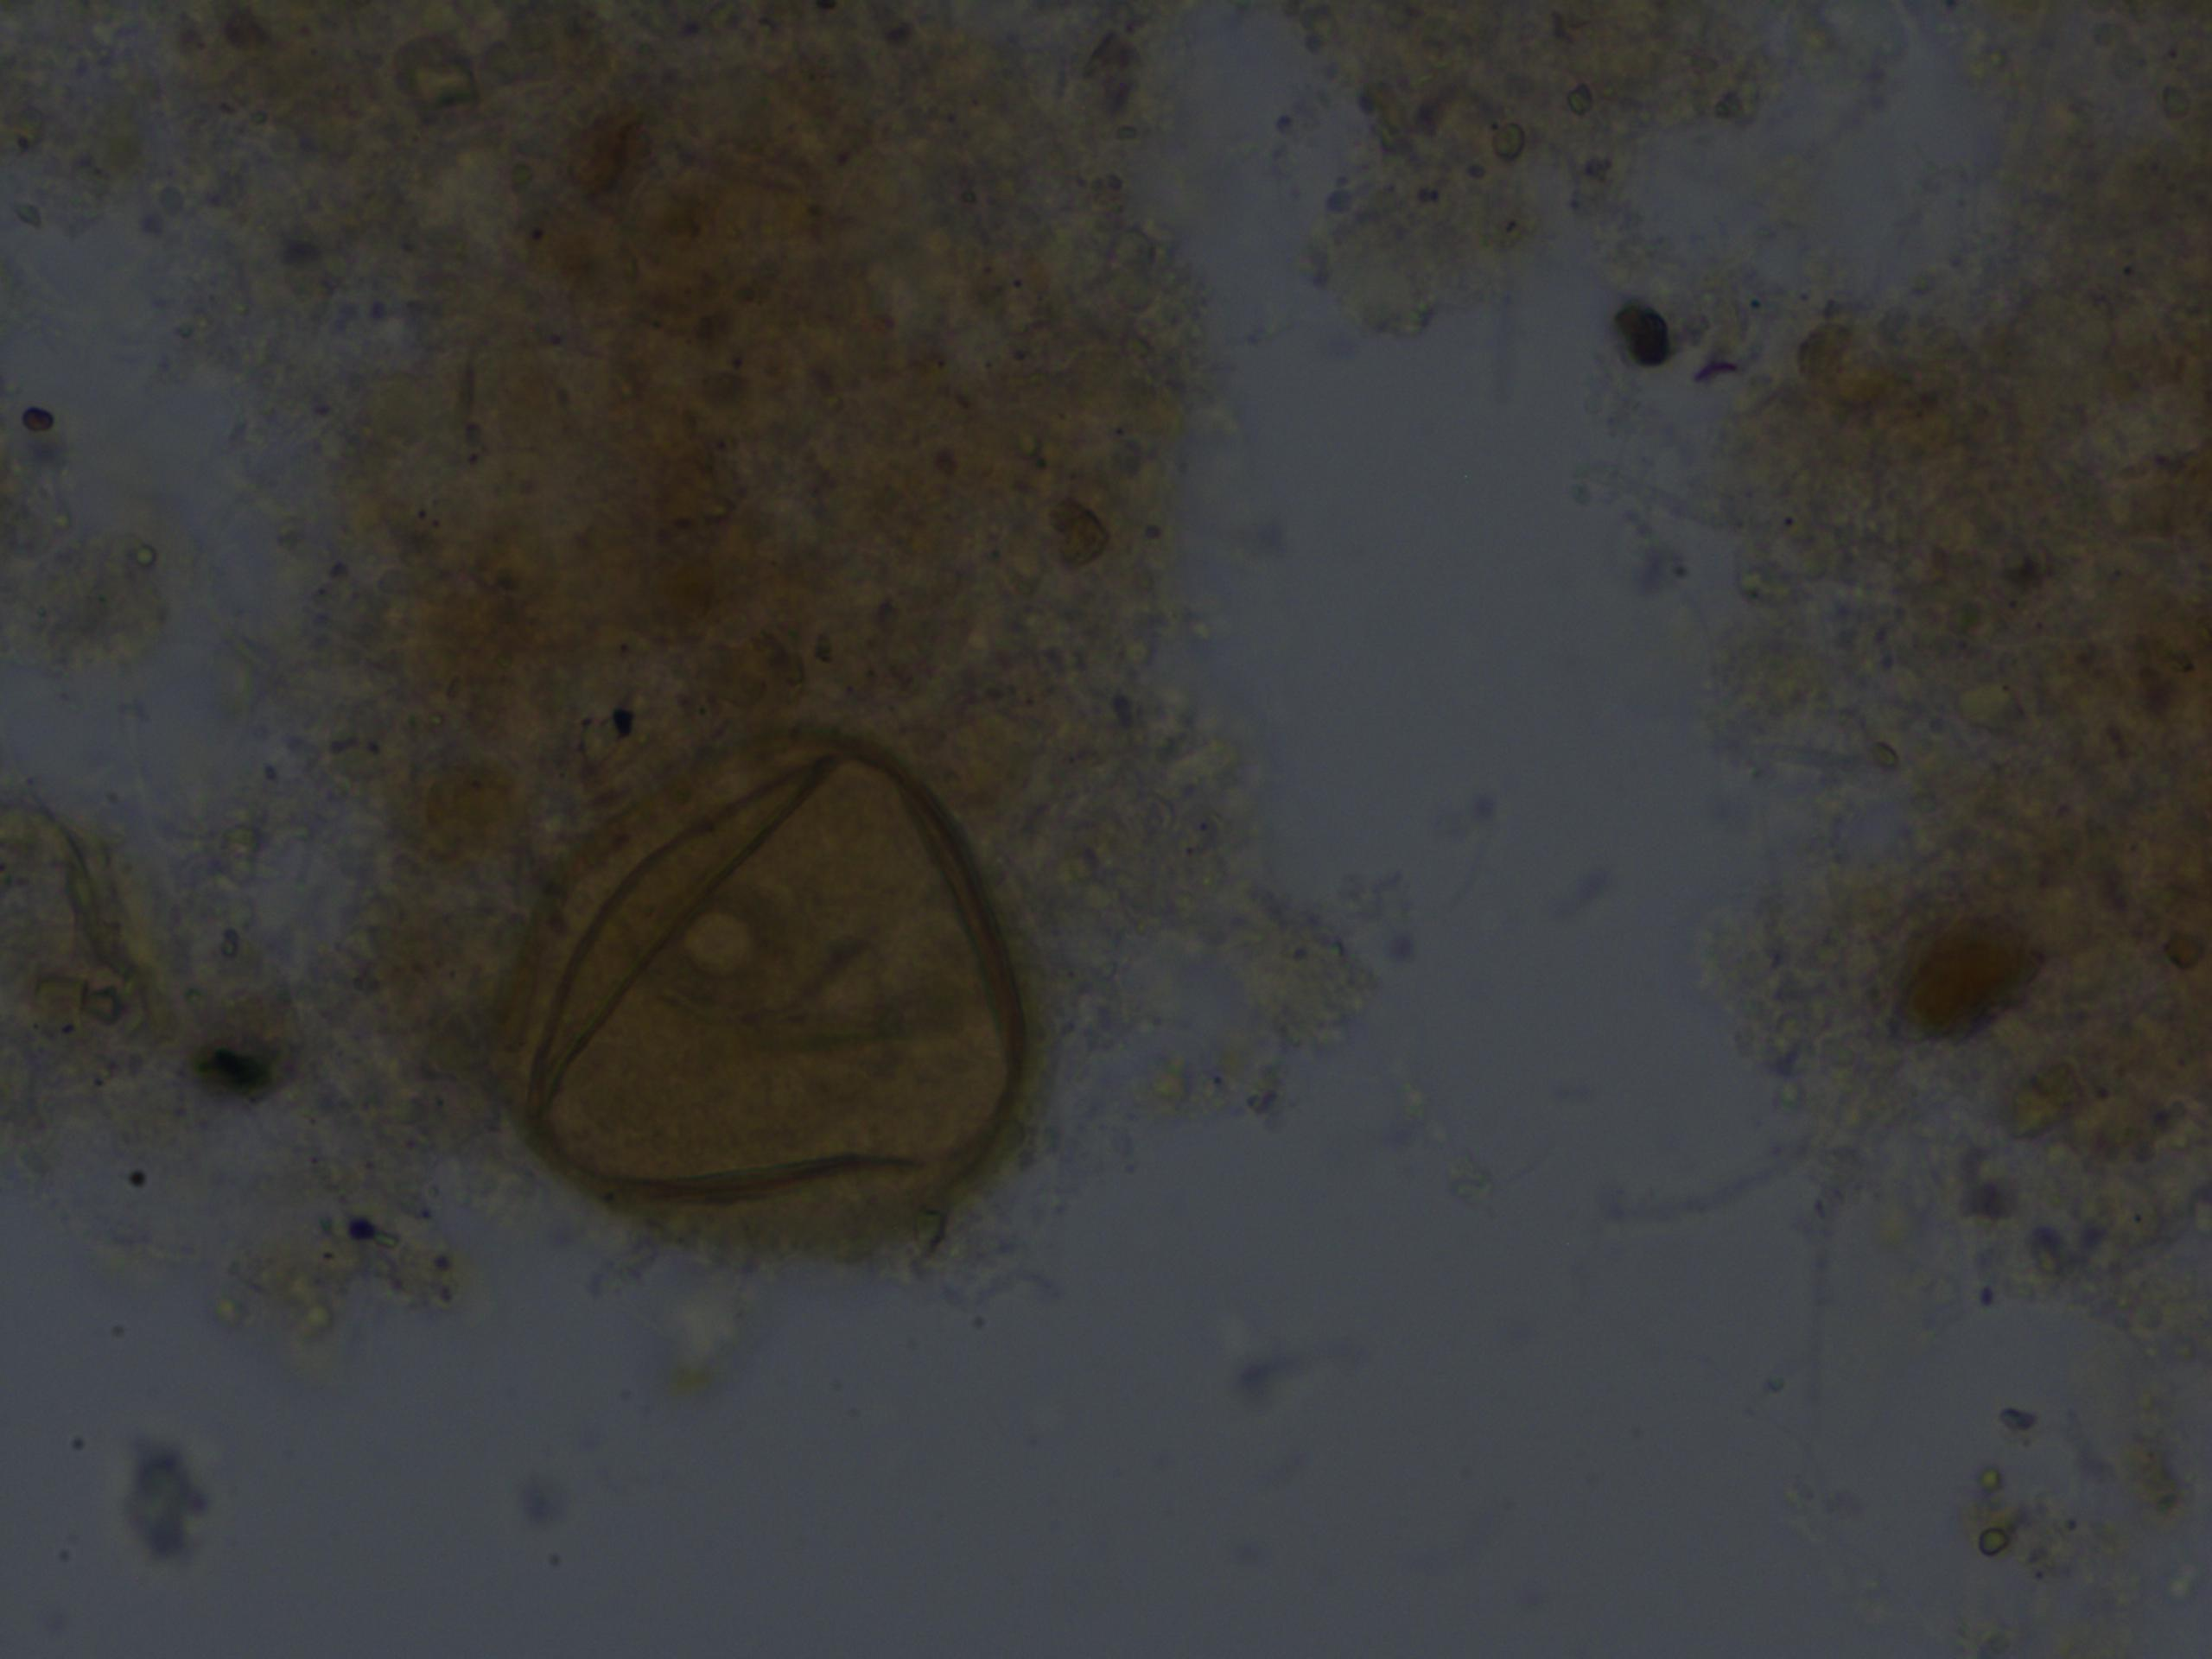spherical_floc: (643, 87, 664, 932)
